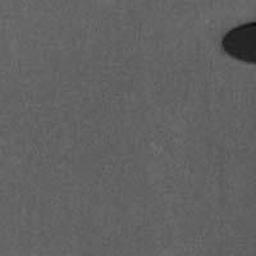Punching: (221, 22, 256, 67)
